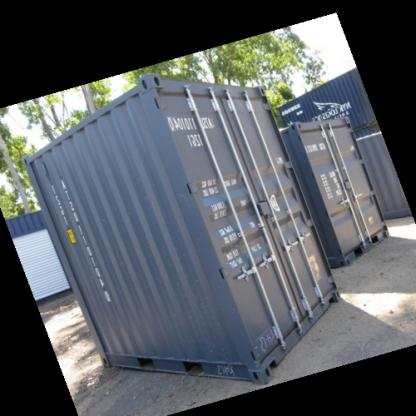Damage: (249, 323, 279, 355), (202, 359, 242, 379), (174, 186, 195, 208)
